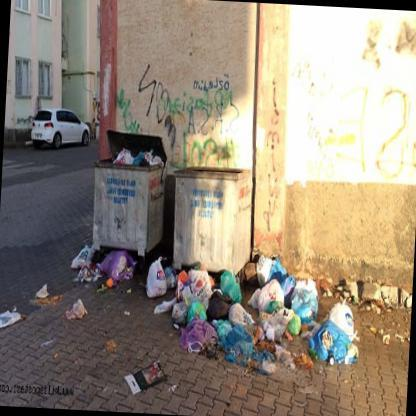Garbage: (128, 260, 257, 324), (182, 305, 251, 366), (317, 298, 362, 364), (235, 348, 280, 406), (61, 243, 126, 274), (287, 278, 319, 325), (254, 256, 284, 303), (268, 299, 300, 343), (112, 142, 160, 166), (69, 286, 96, 324), (34, 266, 64, 298), (0, 297, 26, 328)
